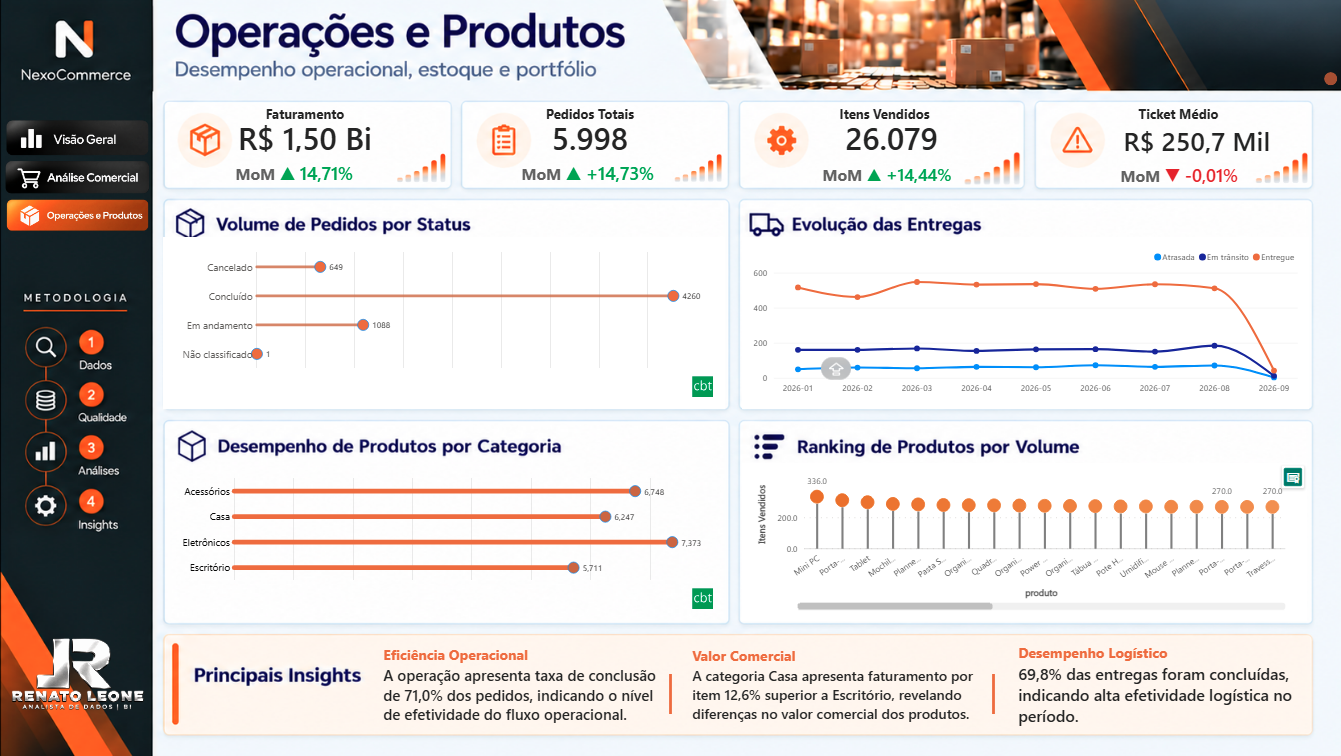

This screenshot's page, from the dashboard's own definition file:
{"tool":"powerbi","page":{"name":"03_OPERAÇÕES E PRODUTOS","canvas":[1920,1080],"ordinal":2},"visuals":[{"type":"image","box":[0,144.3,224.3,105.7],"z":0},{"type":"image","box":[0,195.7,224.3,115.7],"z":1000},{"type":"image","box":[0,245.7,224.3,125.7],"z":2000},{"type":"image","box":[0,845.9,224.8,234.1],"z":3000},{"type":"cardVisual","fields":{"Data":["Medidas.Faturamento Total"]},"box":[321.4,175.7,231.4,128.6],"z":4000},{"type":"image","box":[552.9,188.6,100,101.4],"z":5000},{"type":"image","box":[950,188.9,96.7,101.1],"z":6000},{"type":"image","box":[1361.4,188.6,114.3,101.4],"z":7000},{"type":"image","box":[1778.6,188.6,107.1,101.4],"z":8000},{"type":"textbox","box":[347.5,150,180,25],"z":9000},{"type":"cardVisual","fields":{"Data":["Medidas.Pedidos Totais"]},"box":[730,175.7,228.6,128.6],"z":10000},{"type":"textbox","box":[748.6,150,191.4,25.7],"z":11000},{"type":"textbox","box":[1137.1,150,255.7,25.7],"z":12000},{"type":"textbox","box":[1585.7,150,198.6,25.7],"z":13000},{"type":"cardVisual","fields":{"Data":["Medidas.Ticket Médio"]},"box":[1585.7,180,251.4,120],"z":14000},{"type":"cardVisual","fields":{"Data":["Medidas.Itens Vendidos"]},"box":[1160,175.7,230,132.9],"z":15000},{"type":"shape","title":"BTN_Abrir","box":[1893.3,103.3,19.2,19.2],"z":16000},{"type":"lineChart","fields":{"Category":["Calendario Entregas.Ano-Mes"],"Series":["entregas.status_entrega"],"Y":["Medidas.Total de Entregas"]},"box":[1061.4,338.6,810,245.7],"z":18000},{"type":"cardVisual","fields":{"Data":["Medidas.Insight Eficiência Operacional"]},"box":[532.9,892.9,427.1,170],"z":19000},{"type":"cardVisual","fields":{"Data":["Medidas.Insight Desempenho Logístico"]},"box":[1440,898.2,431.8,160],"z":20000},{"type":"cardVisual","fields":{"Data":["Medidas.Insight Valor Comercial"]},"box":[973.6,903.6,474.3,148.6],"z":21000},{"type":"lollipopChart6C1F4A82B9D34E7A8F0C25D1E3B7A946","fields":{"category":["pedidos.status_pedido"],"value":["Medidas.Pedidos por Status"],"tooltips":["Medidas.% Pedidos por Status"]},"box":[234.3,338.6,802.9,245.7],"z":22000},{"type":"lollipopChart6C1F4A82B9D34E7A8F0C25D1E3B7A946","fields":{"category":["produtos.categoria"],"value":["Medidas.Itens Vendidos"],"tooltips":["Medidas.Faturamento Total"]},"box":[234.3,661.4,802.9,225.7],"z":23000},{"type":"lollipopChart50393786178B4137A75F3257CB590B96","fields":{"category":["produtos.produto"],"measure":["Medidas.Itens Vendidos"],"upperBound":["Medidas.Faturamento Total"]},"box":[1061.4,661.4,807.1,225.7],"z":24000},{"type":"shape","box":[883.6,962.7,150,57.3],"z":24001},{"type":"shape","box":[1345.5,962.7,150,57.3],"z":24002}]}

Visuals, with their boxes on the page's 1920x1080 design canvas (x1, y1, x2, y2). These are canvas units, not pixel positions in the 1341x756 screenshot, which may show the page scaled, cropped or inside an application window:
image: left=0, top=144, right=224, bottom=250
image: left=0, top=196, right=224, bottom=311
image: left=0, top=246, right=224, bottom=371
image: left=0, top=846, right=225, bottom=1080
cardVisual - Medidas.Faturamento Total: left=321, top=176, right=553, bottom=304
image: left=553, top=189, right=653, bottom=290
image: left=950, top=189, right=1047, bottom=290
image: left=1361, top=189, right=1476, bottom=290
image: left=1779, top=189, right=1886, bottom=290
textbox: left=348, top=150, right=528, bottom=175
cardVisual - Medidas.Pedidos Totais: left=730, top=176, right=959, bottom=304
textbox: left=749, top=150, right=940, bottom=176
textbox: left=1137, top=150, right=1393, bottom=176
textbox: left=1586, top=150, right=1784, bottom=176
cardVisual - Medidas.Ticket Médio: left=1586, top=180, right=1837, bottom=300
cardVisual - Medidas.Itens Vendidos: left=1160, top=176, right=1390, bottom=309
"BTN_Abrir" shape: left=1893, top=103, right=1912, bottom=122
lineChart - Calendario Entregas.Ano-Mes x entregas.status_entrega: left=1061, top=339, right=1871, bottom=584
cardVisual - Medidas.Insight Eficiência Operacional: left=533, top=893, right=960, bottom=1063
cardVisual - Medidas.Insight Desempenho Logístico: left=1440, top=898, right=1872, bottom=1058
cardVisual - Medidas.Insight Valor Comercial: left=974, top=904, right=1448, bottom=1052
lollipopChart6C1F4A82B9D34E7A8F0C25D1E3B7A946 - pedidos.status_pedido x Medidas.Pedidos por Status: left=234, top=339, right=1037, bottom=584
lollipopChart6C1F4A82B9D34E7A8F0C25D1E3B7A946 - produtos.categoria x Medidas.Itens Vendidos: left=234, top=661, right=1037, bottom=887
lollipopChart50393786178B4137A75F3257CB590B96 - produtos.produto x Medidas.Itens Vendidos: left=1061, top=661, right=1868, bottom=887
shape: left=884, top=963, right=1034, bottom=1020
shape: left=1346, top=963, right=1496, bottom=1020
